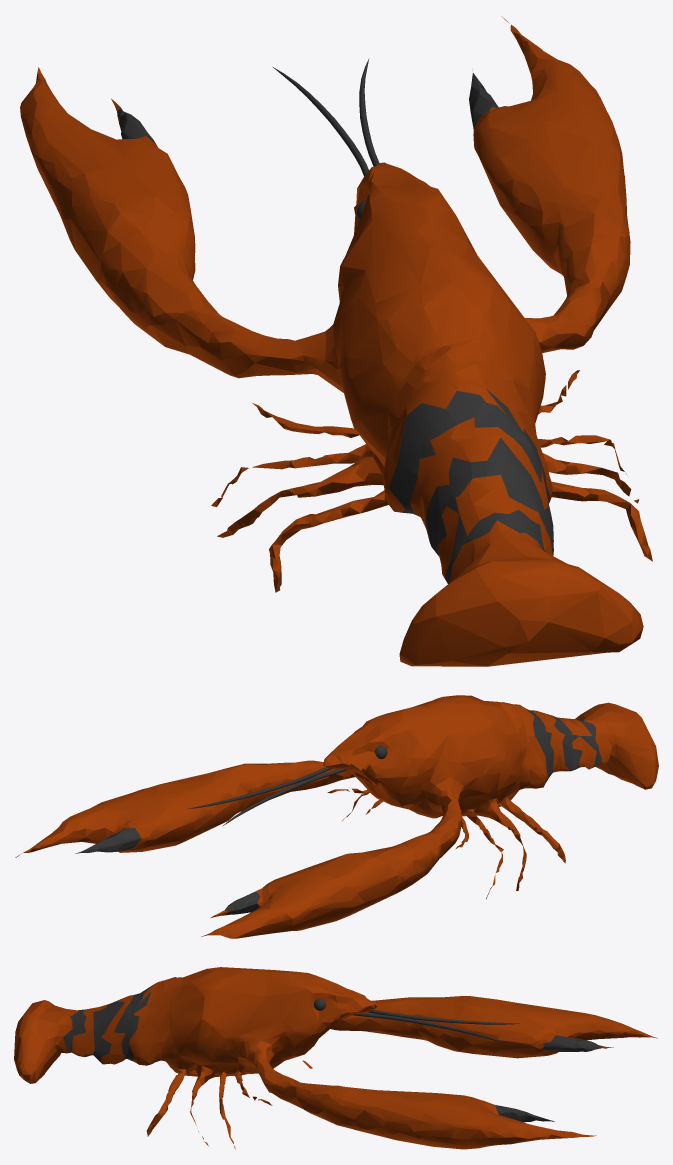
The model's file is 9mYdDPVI9IC.glb.
3 renders of one model, top to bottom at view 1: azimuth 30°, elevation 25°; view 2: azimuth 150°, elevation 25°; view 3: azimuth 270°, elevation 25°, orthographic. The views are drawn at different scales.
Visible parts, largest first — view 1: crayfish_work1; view 2: crayfish_work1; view 3: crayfish_work1.
Part boxes in pixels (x1,y1,x2,y2): crayfish_work1: (20, 16, 652, 666); crayfish_work1: (15, 695, 658, 938); crayfish_work1: (14, 967, 657, 1149).
Size of the model in its own units: 2.36 by 0.9997 by 4.17.
